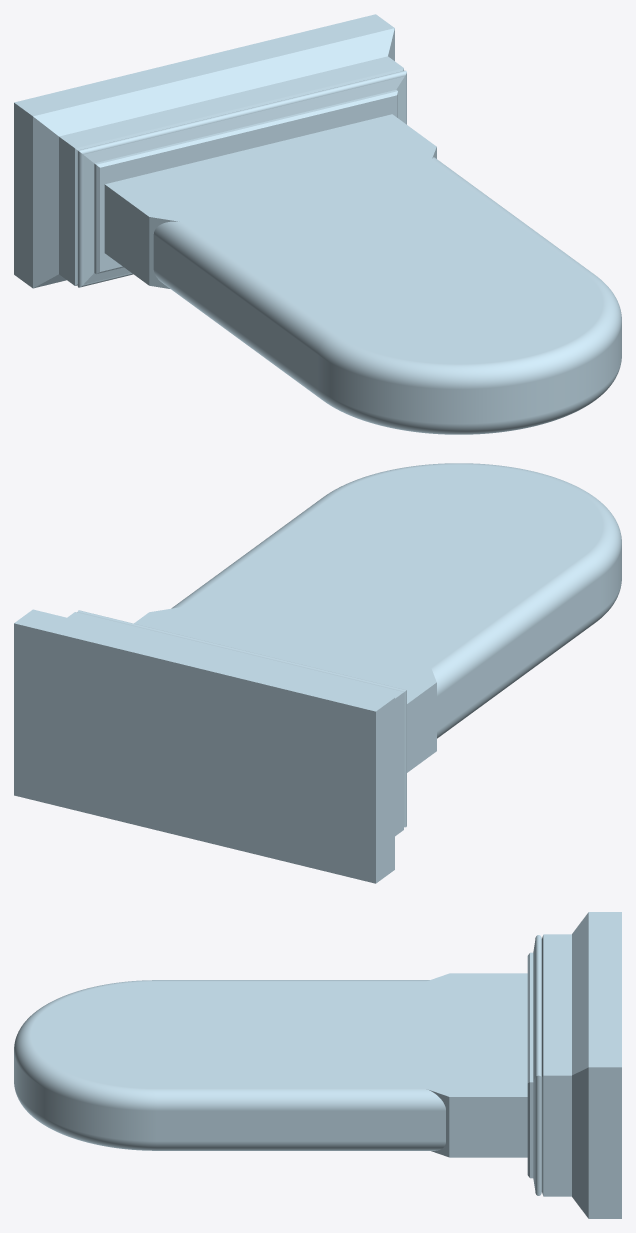
3 views of the same model, one above another, from view 1: azimuth 30°, elevation 25°; view 2: azimuth 150°, elevation 25°; view 3: azimuth 270°, elevation 25° (orthographic). The views are drawn at different scales.
Visible parts, largest first — view 1: PA-419-F_LOD0; view 2: PA-419-F_LOD0; view 3: PA-419-F_LOD0.
Boxes of the visible parts, x1,y1,x2,y2 form: PA-419-F_LOD0: [14, 14, 621, 434]; PA-419-F_LOD0: [14, 463, 621, 883]; PA-419-F_LOD0: [14, 912, 621, 1218].
Size of what is drawn, in the model's own units: 55.88 by 25.4 by 92.42.
